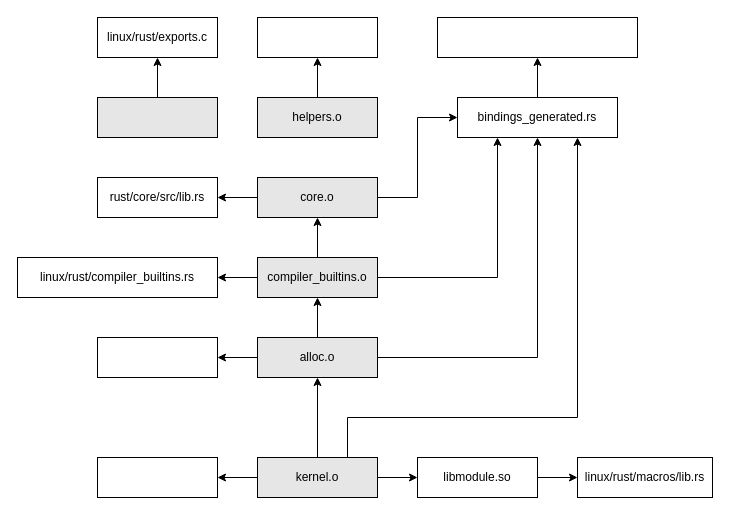
This 730x515 diagram has some shape labels left out. The centre of each missing label's shape, as x and y in pixels:
"exports.o" goes at pixel 157 117.
"linux/rust/helpers.c" goes at pixel 317 37.
"linux/rust/kernel/bindings_helper.h" goes at pixel 537 37.
"linux/rust/kernel/lib.rs" goes at pixel 157 477.
"rust/alloc/src/lib.rs" goes at pixel 157 357.
